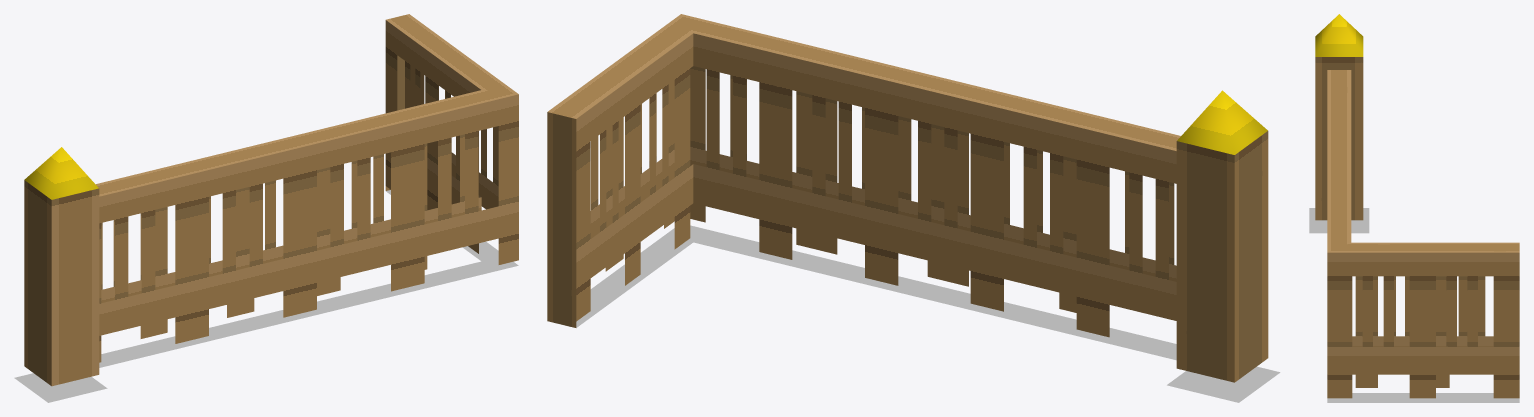
The model's file is r3fence_02.dae.
3 views of the same model, side by side, from view 1: azimuth 30°, elevation 25°; view 2: azimuth 150°, elevation 25°; view 3: azimuth 270°, elevation 25° (orthographic). The views are drawn at different scales.
Parts seen in each view (by area): view 1: r3fence_02; view 2: r3fence_02; view 3: r3fence_02.
Part boxes in pixels (<box>): r3fence_02: <box>14,14,518,402</box>; r3fence_02: <box>547,14,1280,402</box>; r3fence_02: <box>1309,14,1519,402</box>.
Size of the model in its own units: 81 by 38 by 35.
